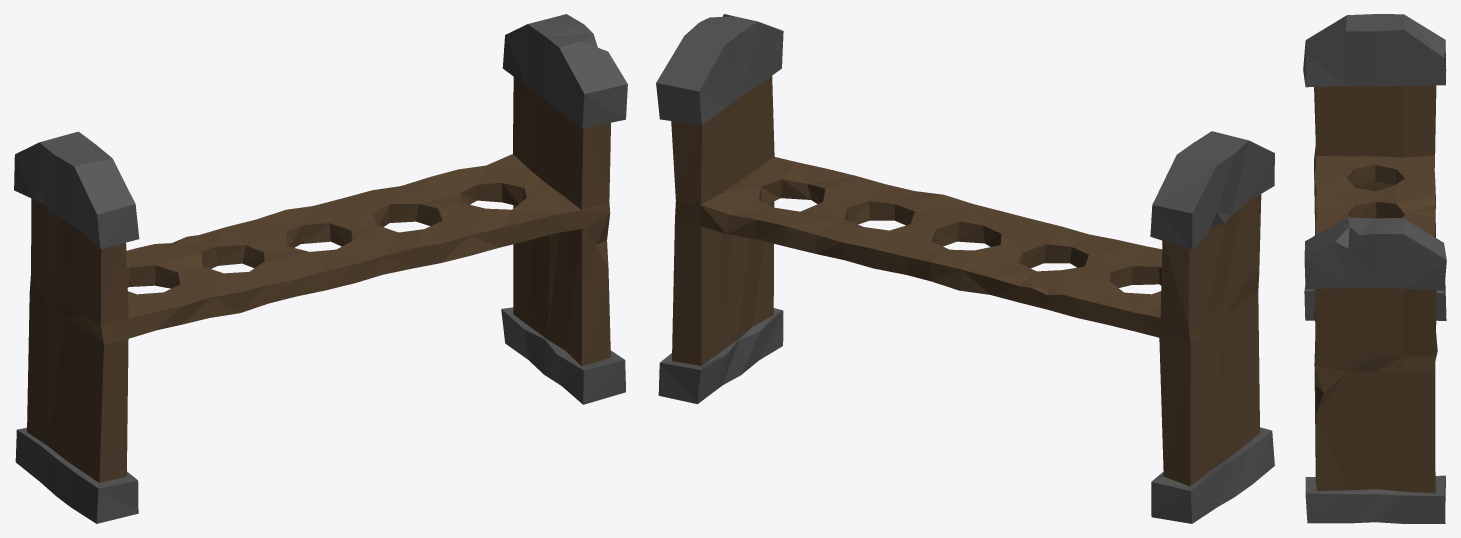
Rendered from AWS_Alchemy_Prop_002.fbx.
3 renders of one model, left to right at view 1: azimuth 30°, elevation 25°; view 2: azimuth 150°, elevation 25°; view 3: azimuth 270°, elevation 25°, orthographic. The views are drawn at different scales.
Parts seen in each view (by area): view 1: AWS_Alchemy_Prop_002; view 2: AWS_Alchemy_Prop_002; view 3: AWS_Alchemy_Prop_002.
Boxes of the visible parts, x1,y1,x2,y2 form: AWS_Alchemy_Prop_002: (14, 14, 627, 523); AWS_Alchemy_Prop_002: (656, 14, 1274, 523); AWS_Alchemy_Prop_002: (1303, 14, 1446, 523).
Size of the model in its own units: 36.05 by 22.17 by 9.88.
